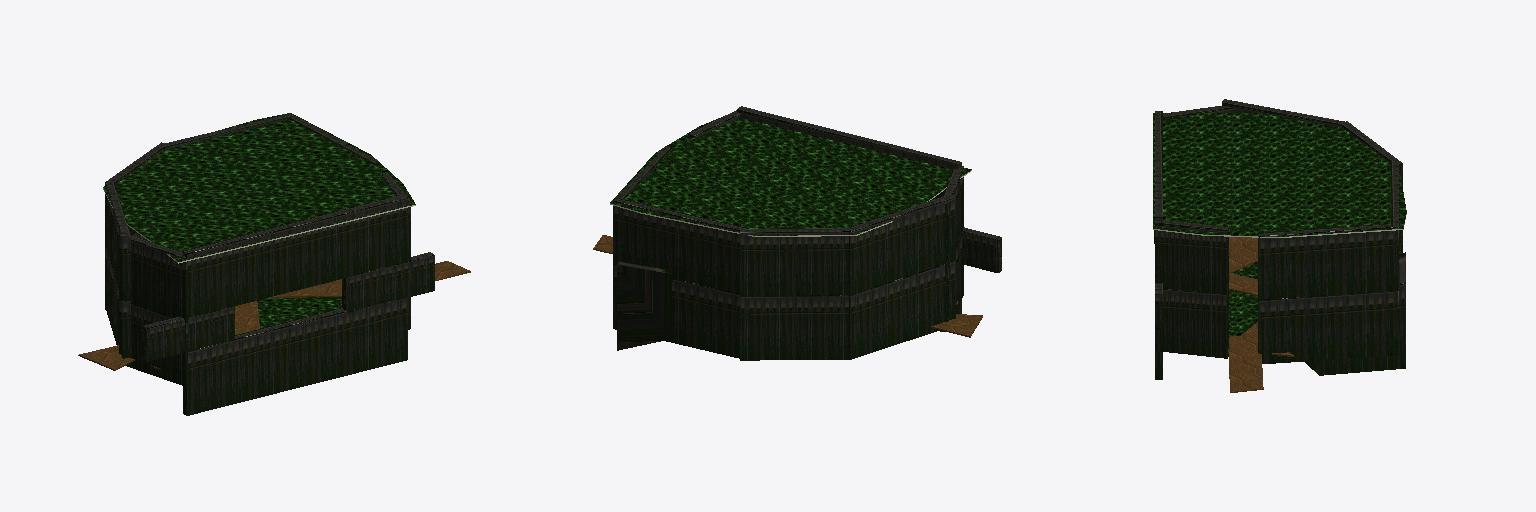
The picture shows the model from 3 angles: view 1: azimuth 30°, elevation 25°; view 2: azimuth 150°, elevation 25°; view 3: azimuth 270°, elevation 25°; orthographic projection.
Parts seen in each view (by area): view 1: Cylinder1_copy16, Cube2, Cube2_copy17, Cube2_copy25, Cube2_copy27, Cube2_copy26, Cube4, Cube2_copy24, Cube2_copy22, Cylinder1, Cube2_copy13, Cube2_copy20 (+2 smaller); view 2: Cylinder1_copy16, Cube2_copy20, Cube2_copy21, Cube2_copy12, Cube2_copy22, Cube2_copy13, Cube2_copy11, Cube2_copy15, Cube2_copy17, Cube2_copy26, Cube2_copy25, Cube4 (+1 smaller); view 3: Cylinder1_copy16, Cube2_copy19, Cube2_copy10, Cube2_copy23, Cube2_copy14, Cube4, Cube2_copy15, Cylinder1, Cube2_copy22, Cube2_copy17, Cube2_copy20, Cube2_copy21.
Boxes of the visible parts, x1=… form: Cylinder1_copy16: x1=103, y1=113, x2=415, y2=263; Cube2: x1=183, y1=297, x2=407, y2=415; Cube2_copy17: x1=183, y1=195, x2=407, y2=317; Cube2_copy25: x1=119, y1=234, x2=187, y2=322; Cube2_copy27: x1=342, y1=252, x2=434, y2=312; Cube2_copy26: x1=142, y1=306, x2=234, y2=361; Cube4: x1=78, y1=261, x2=470, y2=370; Cube2_copy24: x1=119, y1=300, x2=187, y2=386; Cube2_copy22: x1=106, y1=183, x2=130, y2=301; Cylinder1: x1=257, y1=297, x2=341, y2=328; Cube2_copy13: x1=106, y1=248, x2=130, y2=364; Cube2_copy20: x1=161, y1=113, x2=294, y2=149; Cylinder1_copy16: x1=610, y1=115, x2=971, y2=236; Cube2_copy20: x1=613, y1=198, x2=748, y2=294; Cube2_copy21: x1=740, y1=228, x2=850, y2=296; Cube2_copy12: x1=740, y1=295, x2=850, y2=360; Cube2_copy22: x1=849, y1=194, x2=955, y2=296; Cube2_copy13: x1=849, y1=261, x2=955, y2=359; Cube2_copy11: x1=613, y1=265, x2=739, y2=358; Cube2_copy15: x1=617, y1=262, x2=671, y2=350; Cube2_copy17: x1=737, y1=106, x2=961, y2=200; Cube2_copy26: x1=962, y1=227, x2=1001, y2=272; Cube2_copy25: x1=943, y1=166, x2=963, y2=268; Cube4: x1=593, y1=235, x2=982, y2=337; Cylinder1_copy16: x1=1153, y1=113, x2=1406, y2=237; Cube2_copy19: x1=1258, y1=224, x2=1395, y2=300; Cube2_copy10: x1=1258, y1=292, x2=1395, y2=363; Cube2_copy23: x1=1155, y1=220, x2=1228, y2=294; Cube2_copy14: x1=1155, y1=287, x2=1228, y2=358; Cube4: x1=1228, y1=237, x2=1294, y2=392; Cube2_copy15: x1=1305, y1=252, x2=1405, y2=375; Cylinder1: x1=1229, y1=262, x2=1257, y2=336; Cube2_copy22: x1=1222, y1=99, x2=1344, y2=127; Cube2_copy17: x1=1155, y1=111, x2=1162, y2=220; Cube2_copy20: x1=1391, y1=162, x2=1398, y2=291; Cube2_copy21: x1=1341, y1=121, x2=1402, y2=185.
Size of the model in its own units: 7.64 by 3.16 by 4.42.
Materials: 5 (4 with a texture image).